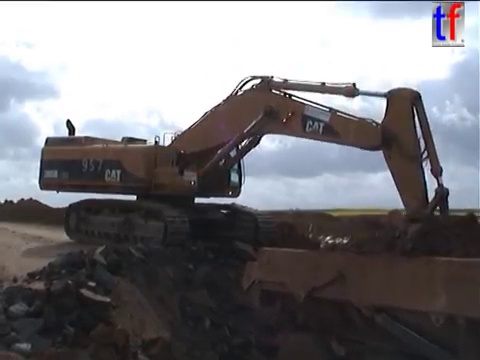excavator: (35, 71, 467, 288)
truck: (237, 213, 480, 360)
